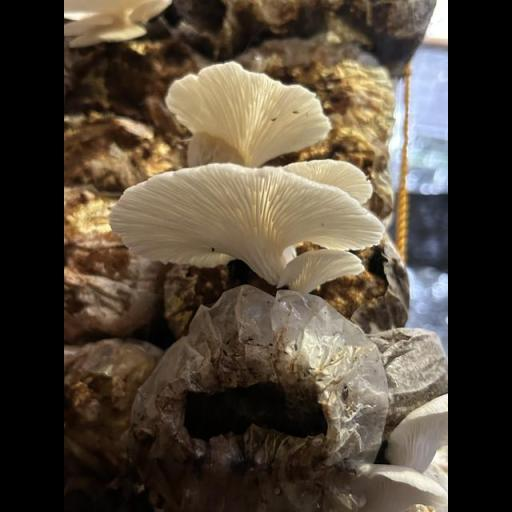White Oyster Mushroom: (108, 57, 394, 306)
